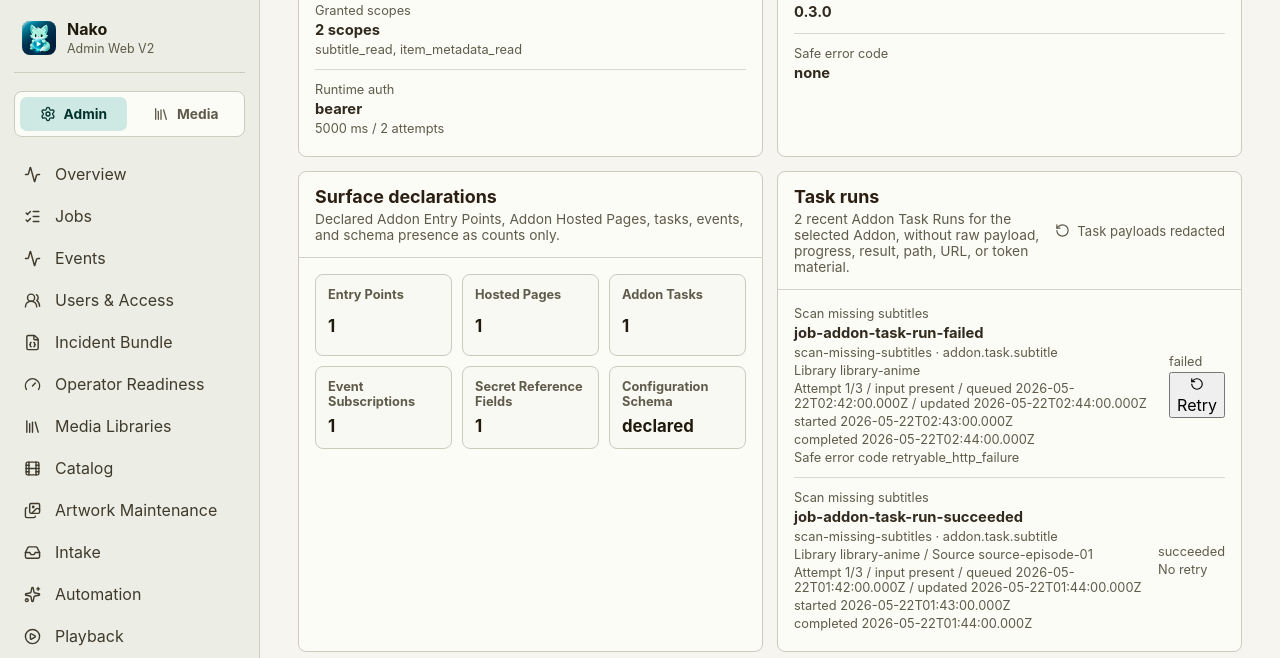
it: Admin Web V2 route shell › retries Addon Task Runs only after explicit confirmation
The width and height of the screenshot is (1280, 658).
(page scrolled)
Click the button with aria-label "Prepare Addon Task Run retry job-addon-task-run-failed". click: (1197, 395)
box: [1169, 372, 1225, 418]
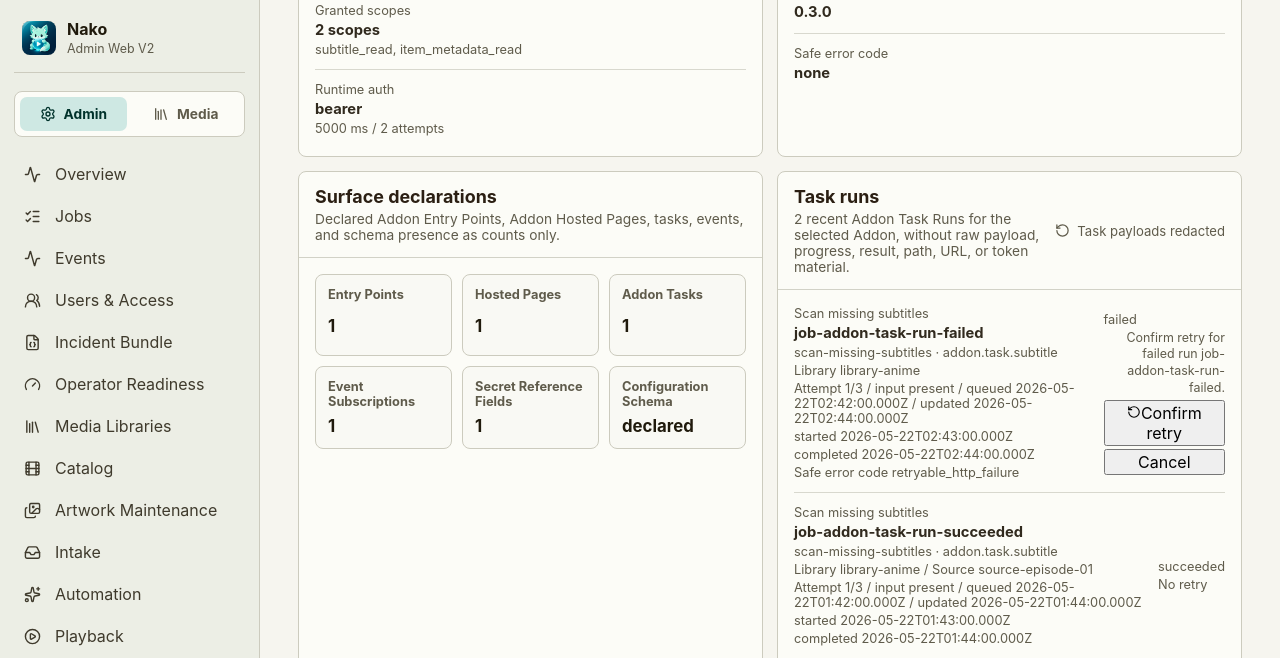
Expected: the text "Confirm retry for failed run job-addon-task-run-failed." is shown, [1126, 330, 1225, 395]
Click the button with aria-label "Confirm Addon Task Run retry job-addon-task-run-failed". click: (1164, 423)
box: [1104, 400, 1225, 446]
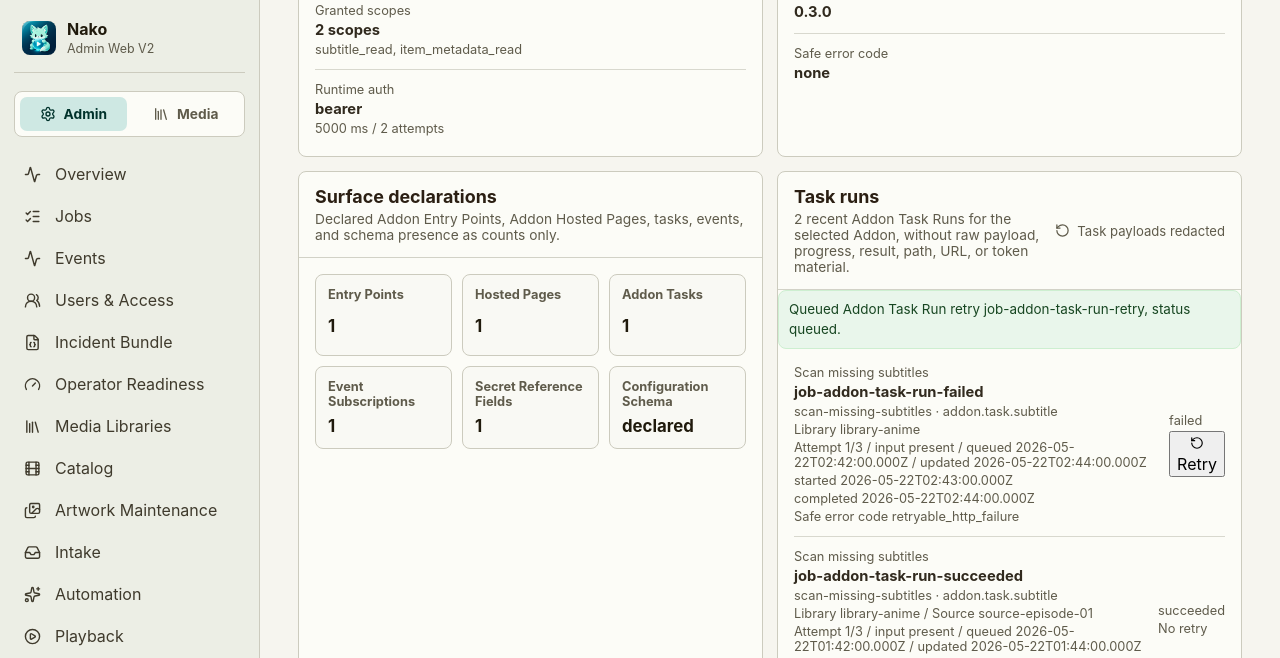
Expected: the text "Queued Addon Task Run retry job-addon-task-run-retry, status queued." is shown, [778, 290, 1241, 349]
